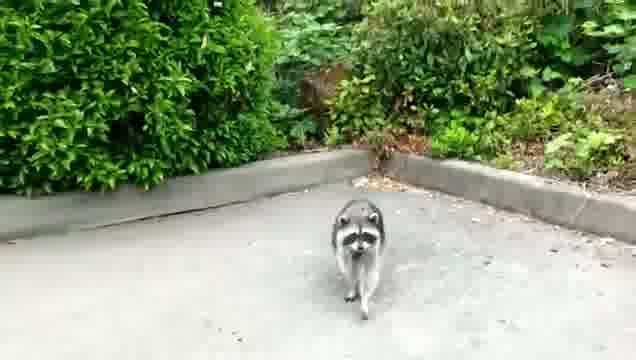raccoon: (333, 200, 386, 319)
